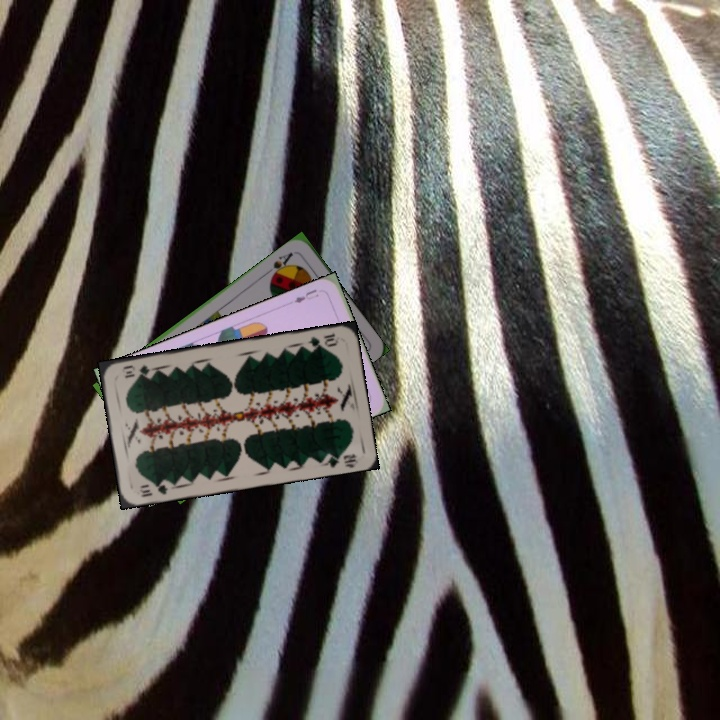EU: (290, 285, 321, 306)
G10: (136, 476, 174, 500), (304, 329, 342, 351)
SA: (262, 248, 296, 281)
